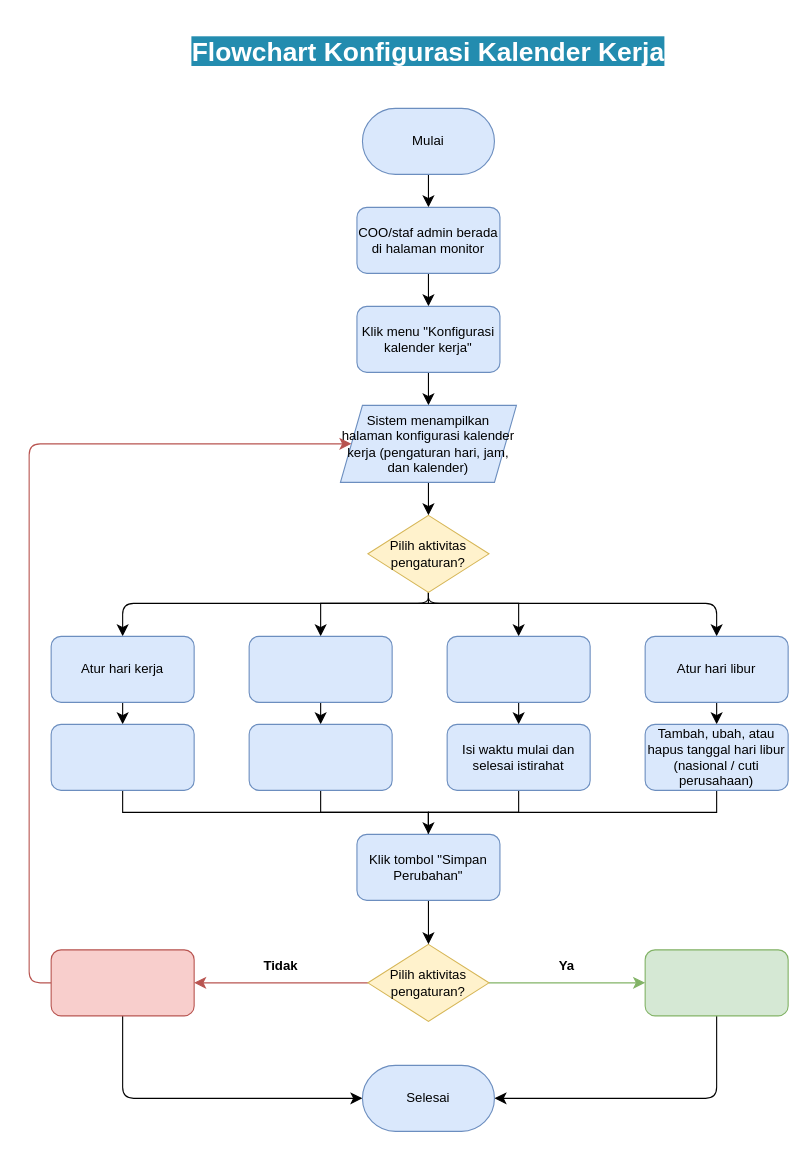
Image size: 807x1151. Some labels were removed from this diagram. Each missing label, with the centre of its shape:
Atur jam istirahat: [518,668]
Atur jam kerja: [320,668]
Isi jam masuk dan jam pulang (shift): [320,756]
Pilih hari kerja (Senin-Jumat / custom): [122,756]
Sistem menampilkan notifikasi "Sinkronisasi Berhasil": [716,982]
Sistem menampilkan pesan gagal sinkronisasi: [122,982]
